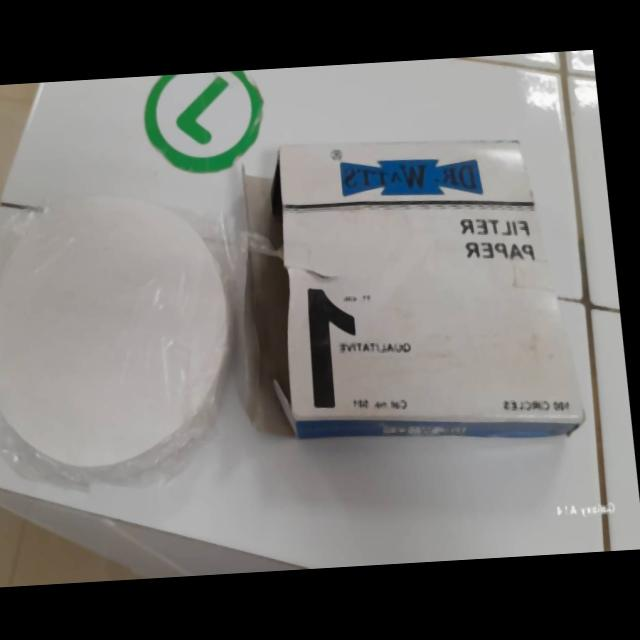Filter paper: (0, 184, 245, 483)
